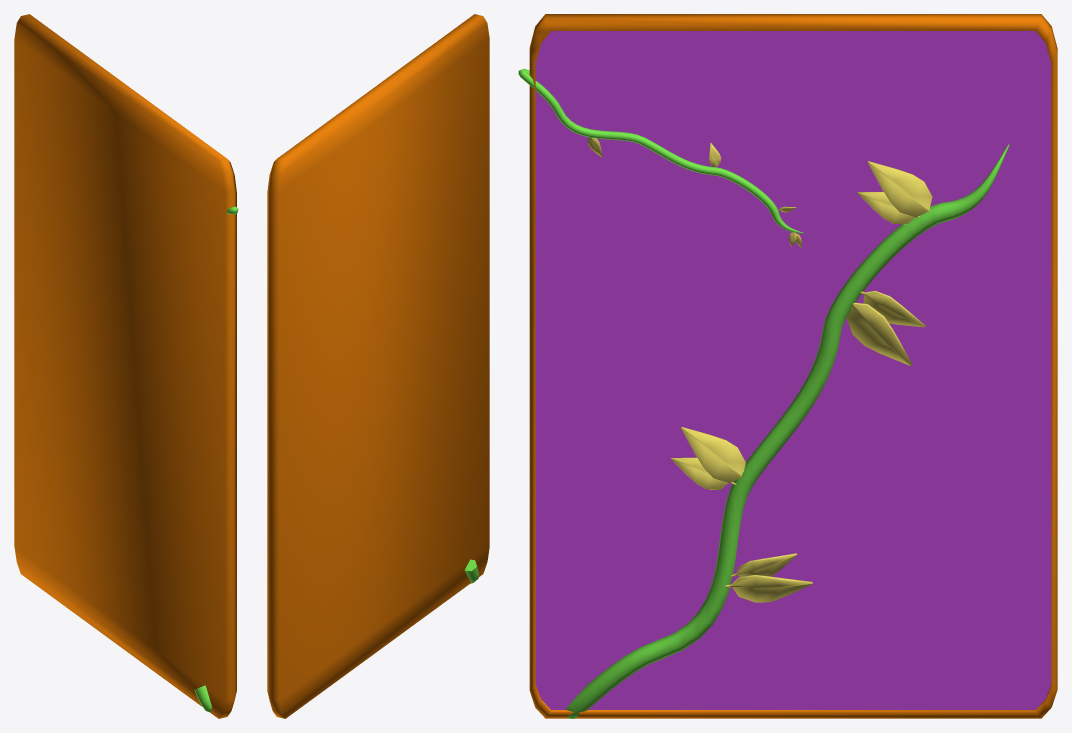
The model's file is cuadro4_presente.fbx.
3 views of the same model, side by side, from view 1: azimuth 30°, elevation 25°; view 2: azimuth 150°, elevation 25°; view 3: azimuth 270°, elevation 25° (orthographic). The views are drawn at different scales.
Visible parts, largest first — view 1: Cuadro 2.005; view 2: Cuadro 2.005; view 3: Cuadro 2, Cuadro 2.005, Cuadro 2.003, Cuadro 2.004, Cuadro 2.002.
Part boxes in pixels (x1,y1,x2,y2): Cuadro 2.005: (14,14,236,718); Cuadro 2.005: (267,14,489,718); Cuadro 2: (535,31,1051,709); Cuadro 2.005: (529,14,1057,718); Cuadro 2.003: (566,144,1009,718); Cuadro 2.004: (671,161,932,602); Cuadro 2.002: (518,68,803,233).
Bounding box in the file's own units: 2.48 × 29.47 × 20.49.
